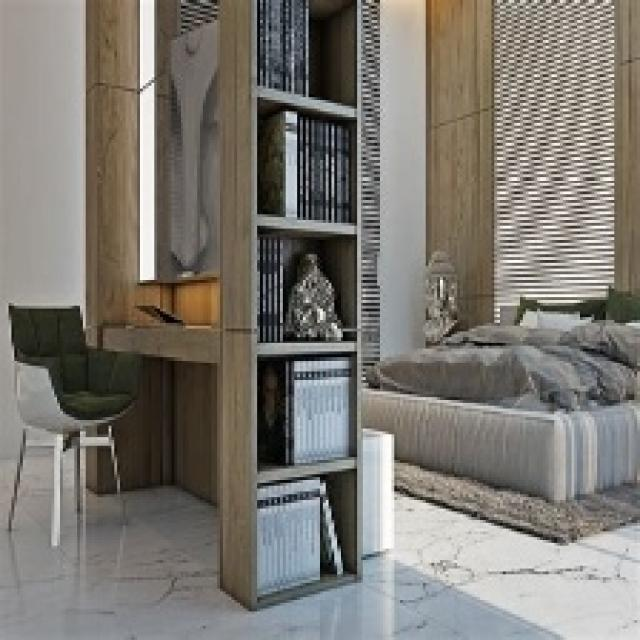Bed: (357, 288, 637, 503)
